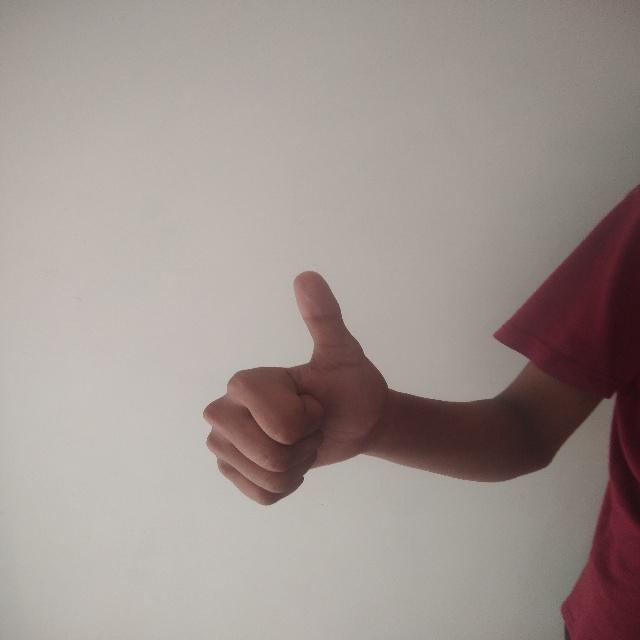Thumbs Up: (199, 267, 400, 510)
